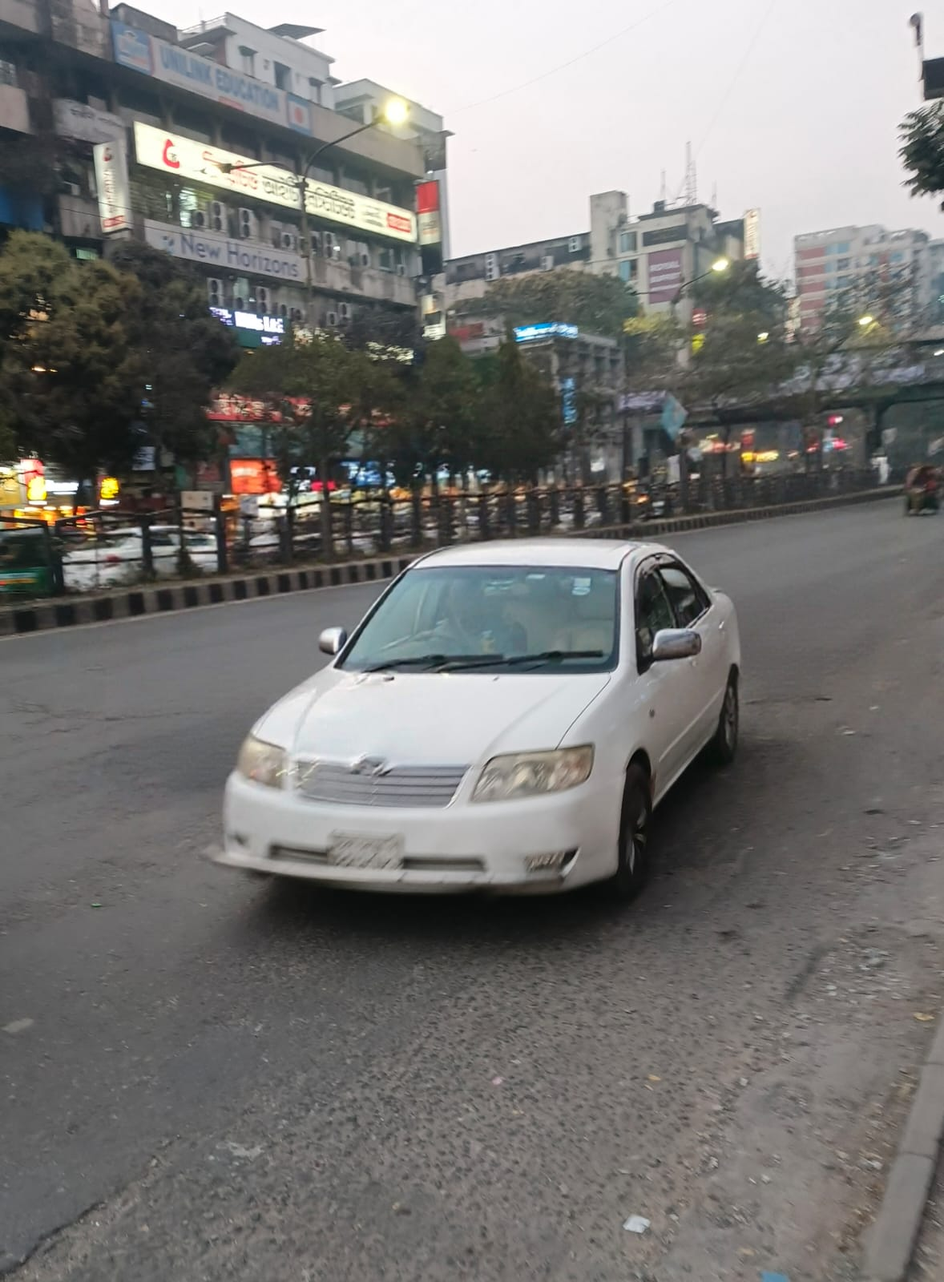private car: (155, 503, 795, 975), (72, 524, 291, 578)
